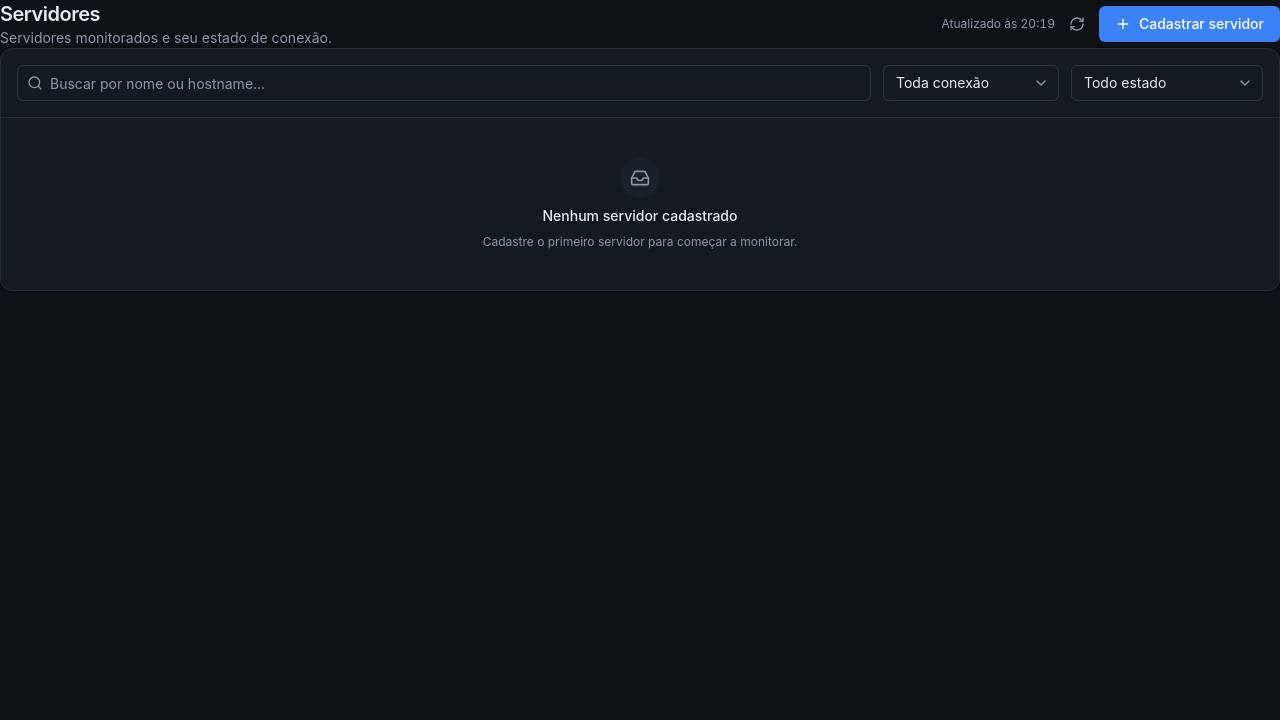
Scenario: ServersPage › aplica o erro 422 da API ao campo correspondente
Click the button "Cadastrar servidor" at (1189, 24), box [1099, 6, 1279, 42]
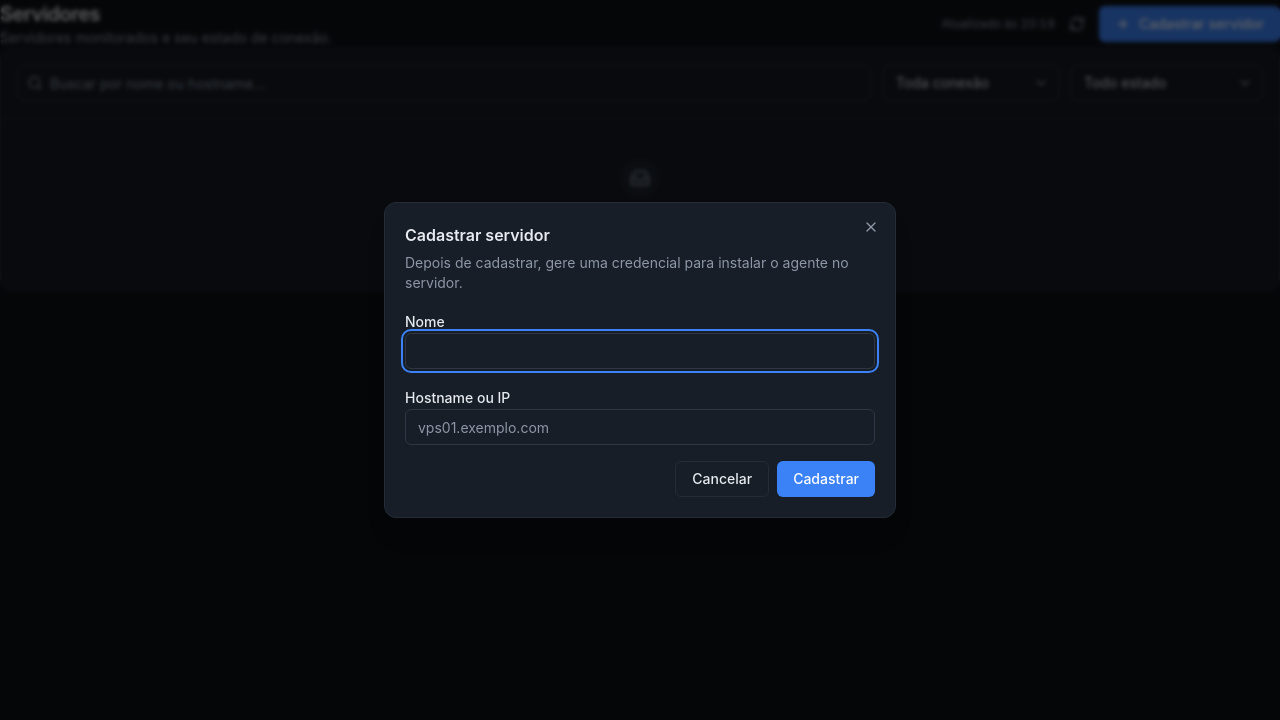
Type "web-01" into the field labelled "Nome" at (640, 351), box [405, 333, 875, 369]
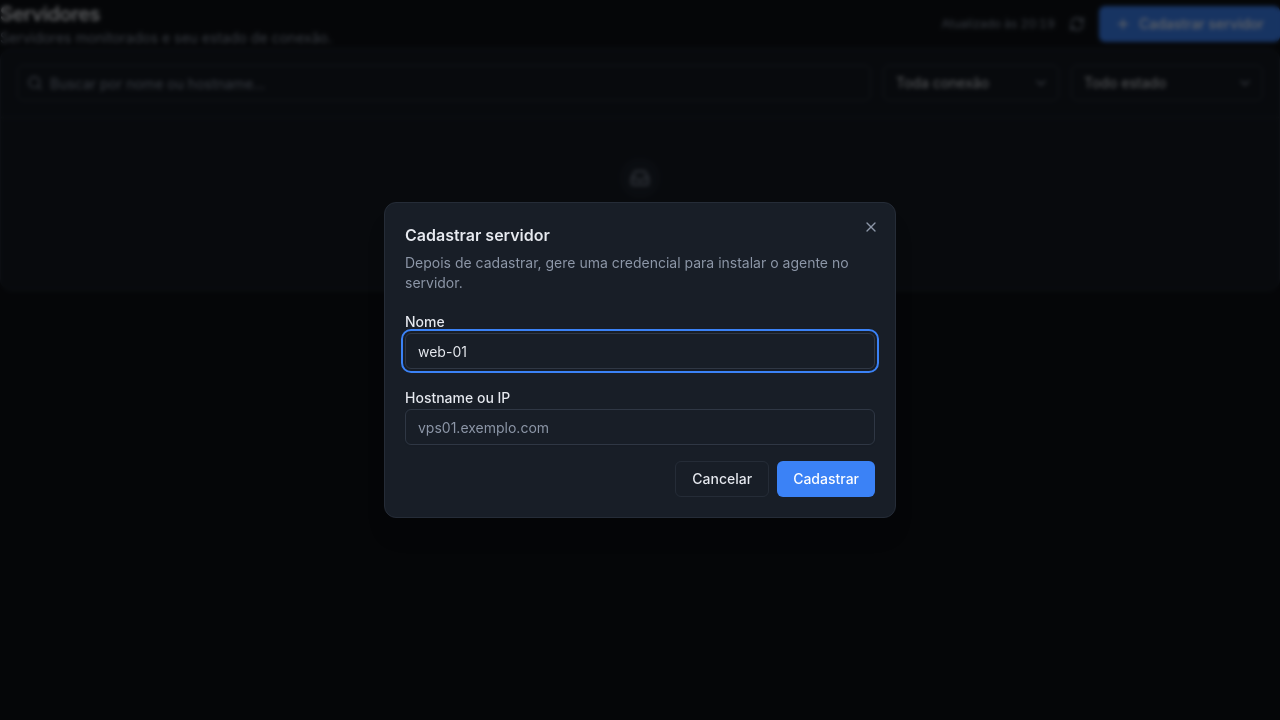
Type "10.0.0.1" into the field labelled "Hostname ou IP" at (640, 427), box [405, 409, 875, 445]
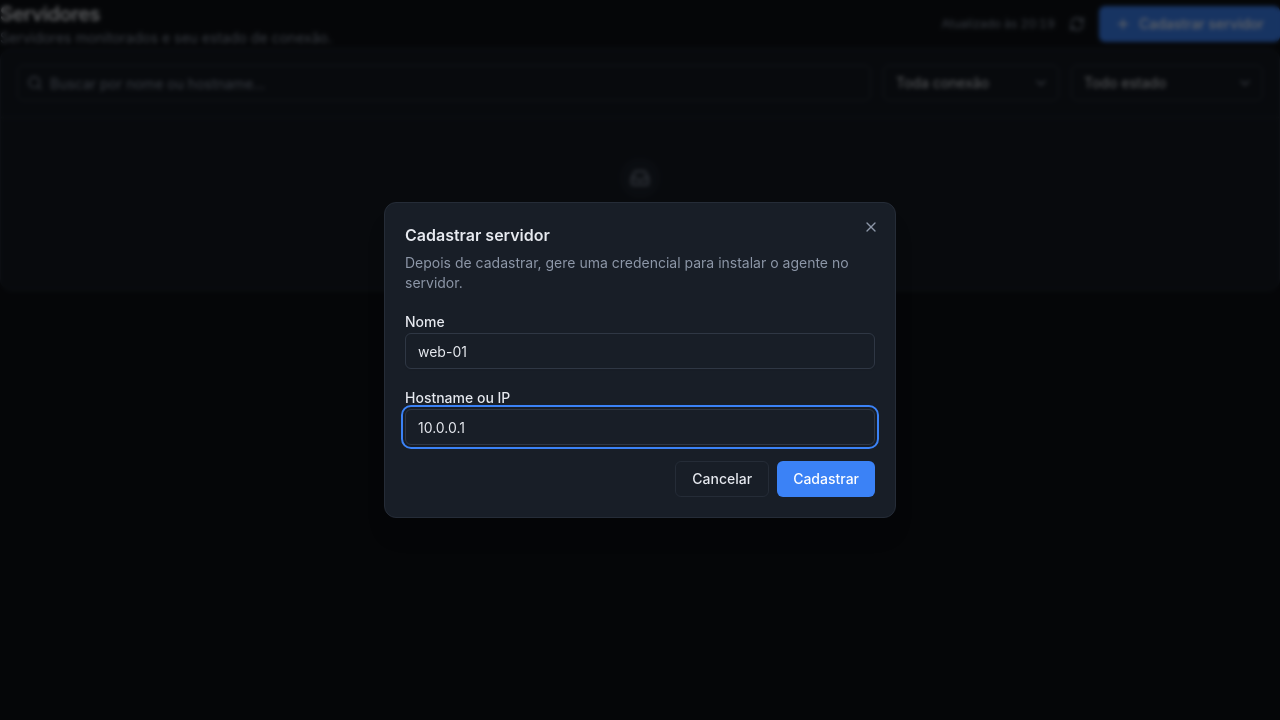
Click the button "Cadastrar" at (826, 479), box [777, 461, 875, 497]
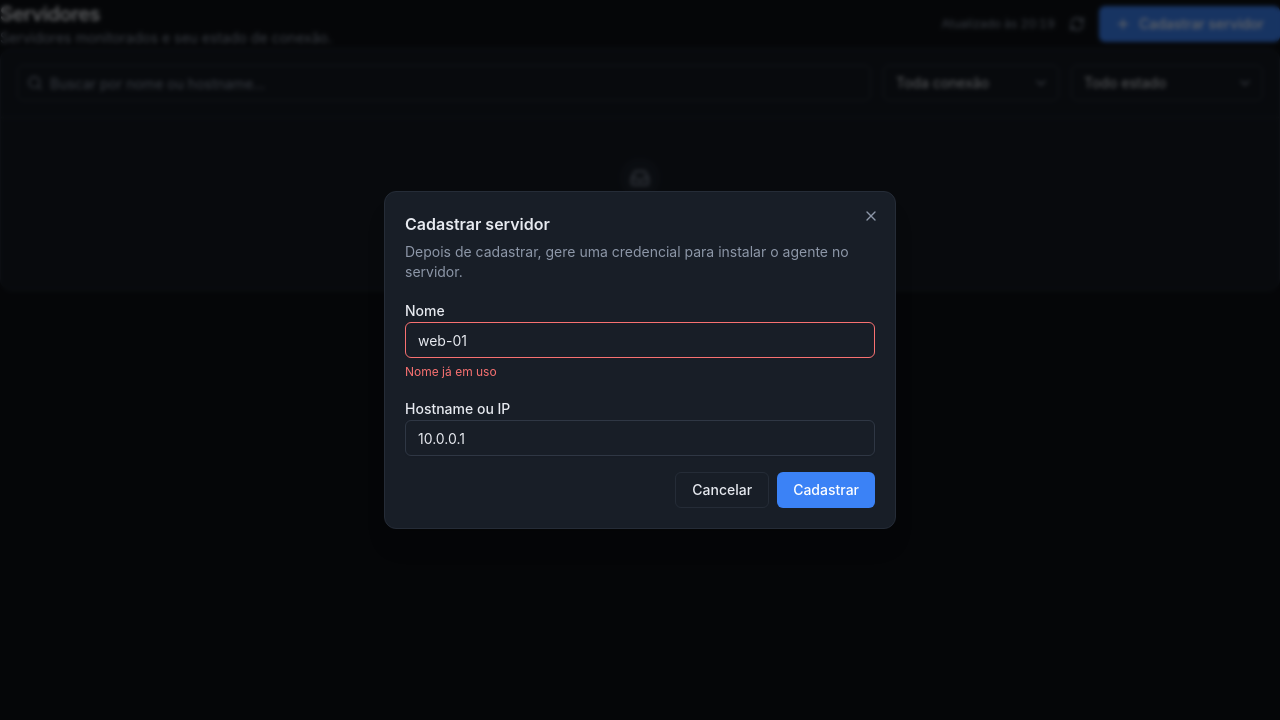
Check: the text "Nome já em uso" is shown, box [405, 364, 497, 379]
